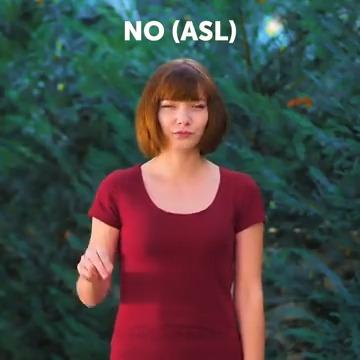No: (63, 241, 119, 295)
